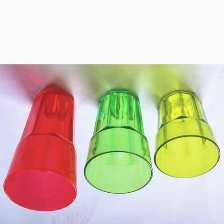glass: (0, 80, 88, 216), (78, 85, 156, 202), (147, 85, 224, 185)
